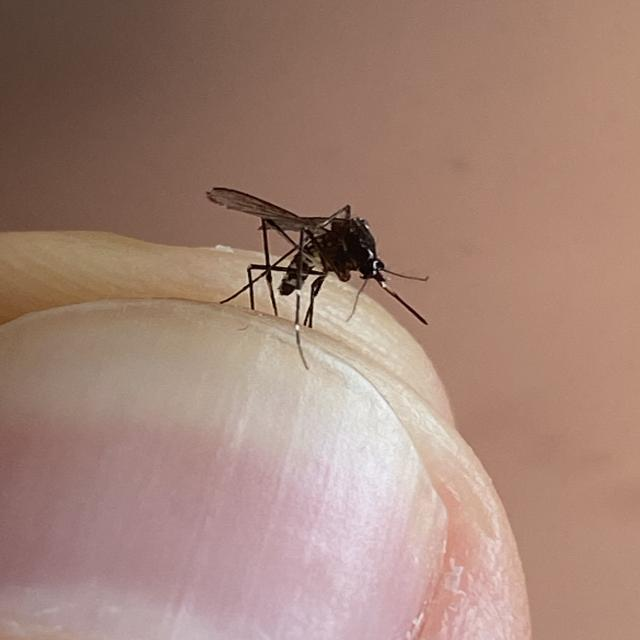albopictus: (202, 171, 429, 375)
